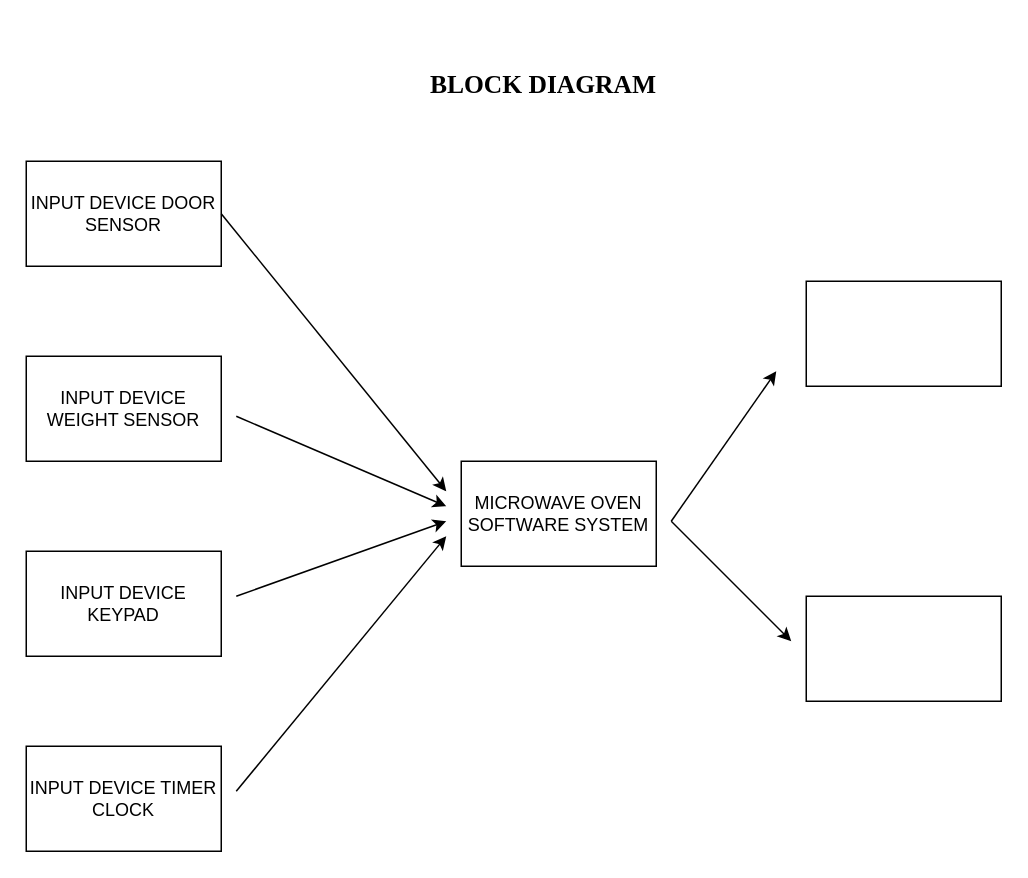
This 1028x878 diagram has some shape labels left out. The centre of each missing label's shape, as x and y in pixels:
"OUTPUT DEVICE DISPLAY" goes at point 903,648.
"OUTPUT DEVICE HEATING ELEMENT" goes at point 903,333.
